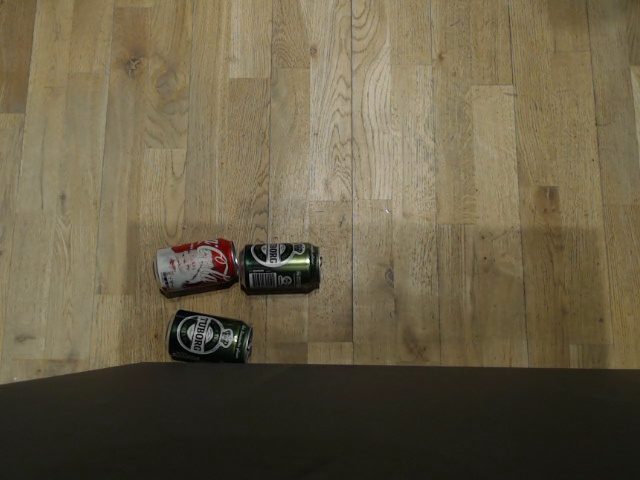beer: (239, 236, 327, 297), (160, 310, 255, 364)
cola: (138, 233, 230, 295)
